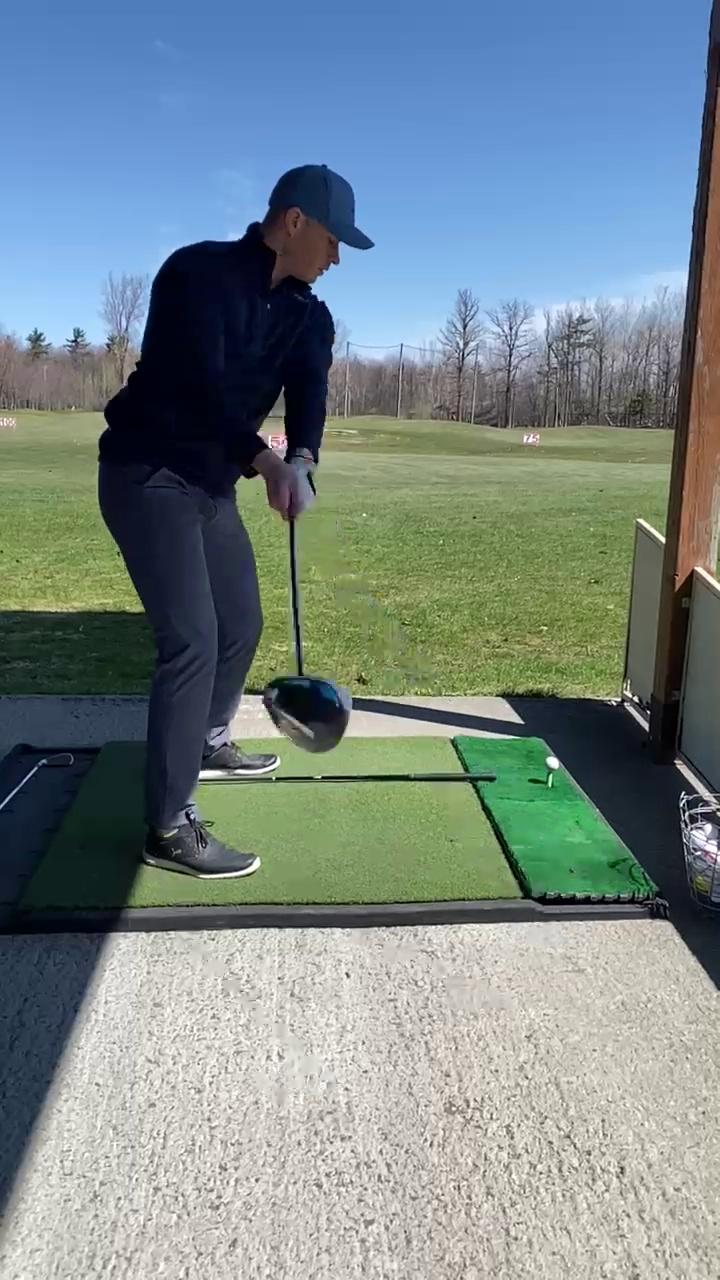ClubHead: (260, 657, 355, 757), (33, 744, 79, 781)
GolfBall: (543, 754, 562, 775)
